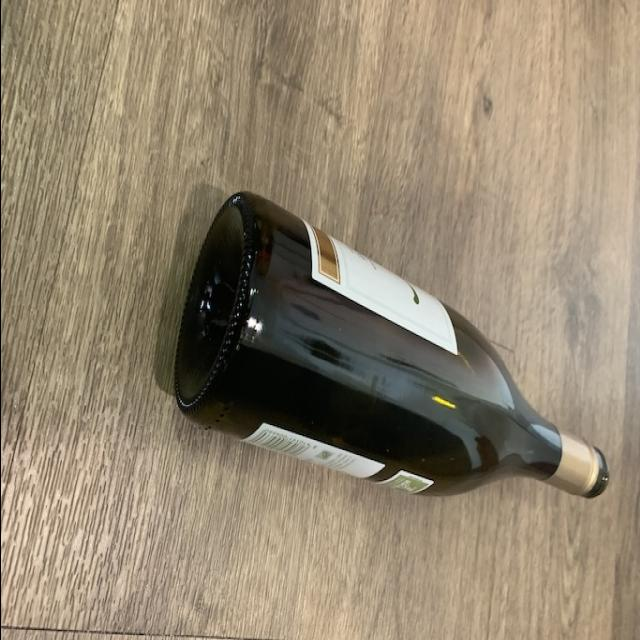litter: (166, 188, 611, 507)
